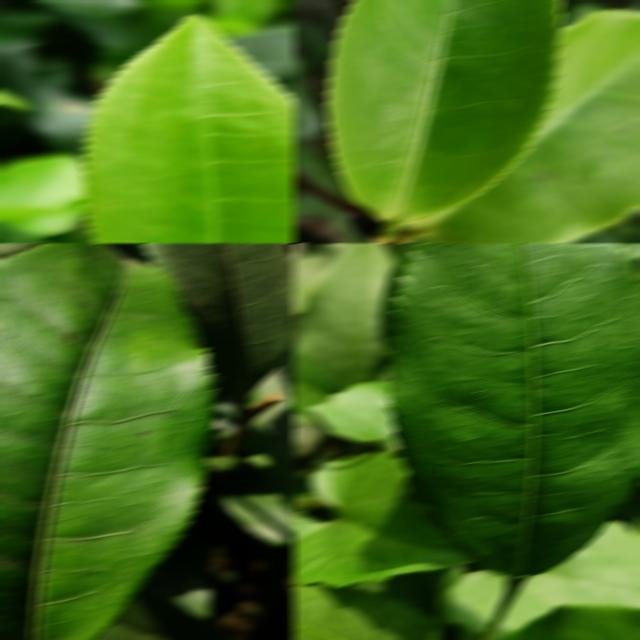Leaf: (0, 243, 216, 640), (388, 243, 640, 577), (324, 0, 563, 226), (420, 9, 640, 243), (83, 15, 296, 243), (141, 243, 296, 396), (294, 243, 396, 391), (292, 585, 439, 640), (91, 586, 233, 640), (0, 151, 86, 237), (32, 0, 144, 50), (228, 22, 296, 80), (292, 347, 334, 411)
